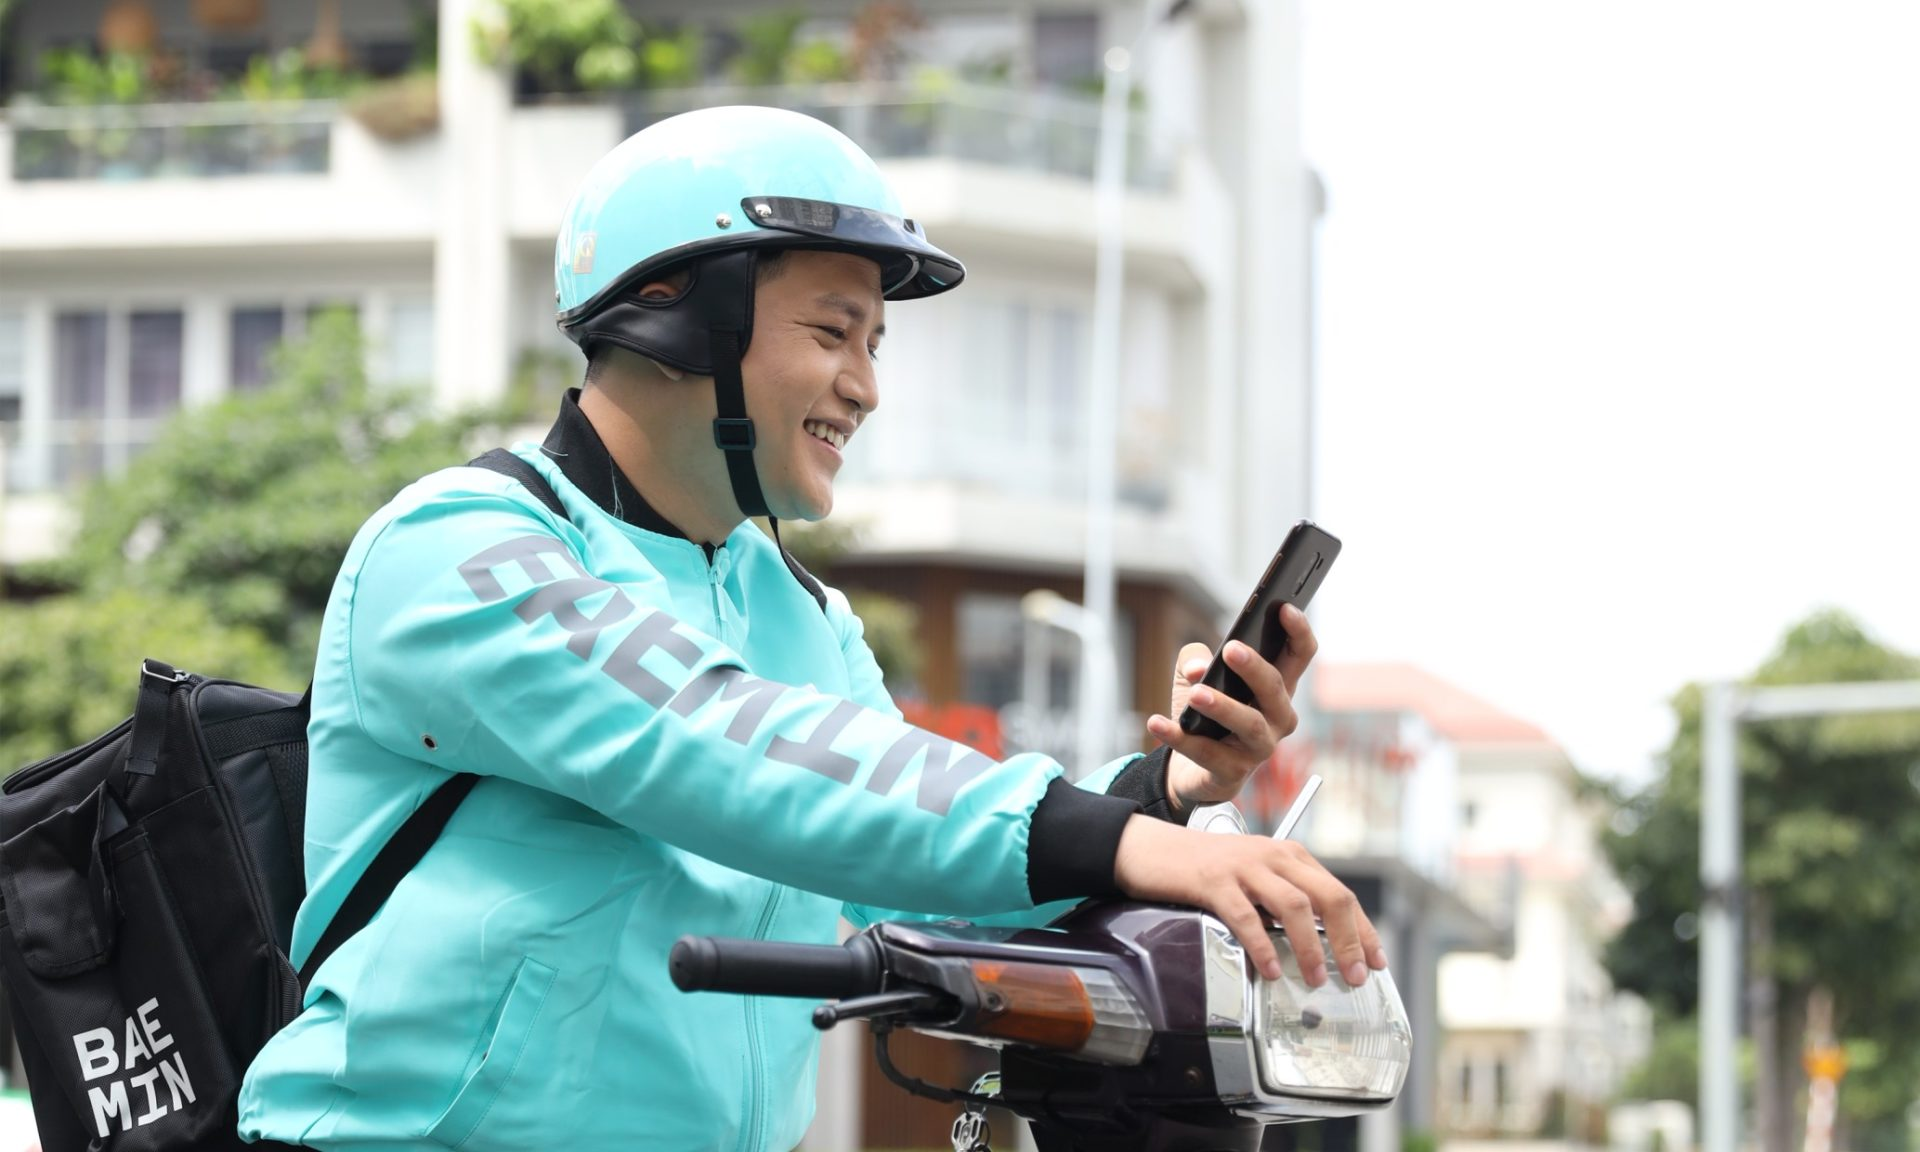su dung dien thoai: (551, 104, 1343, 780)
